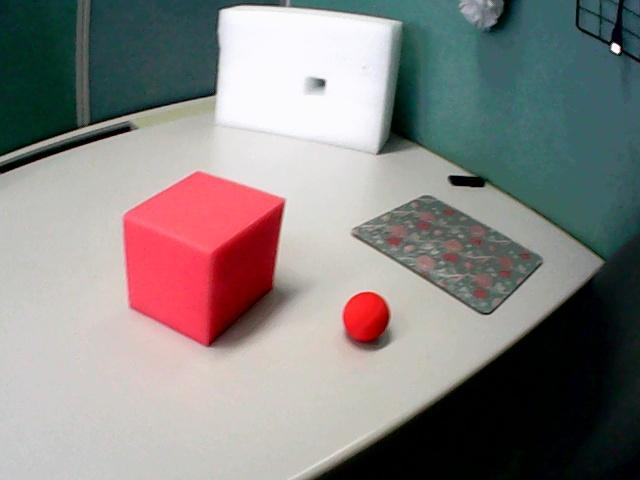red_block: (124, 172, 283, 344)
